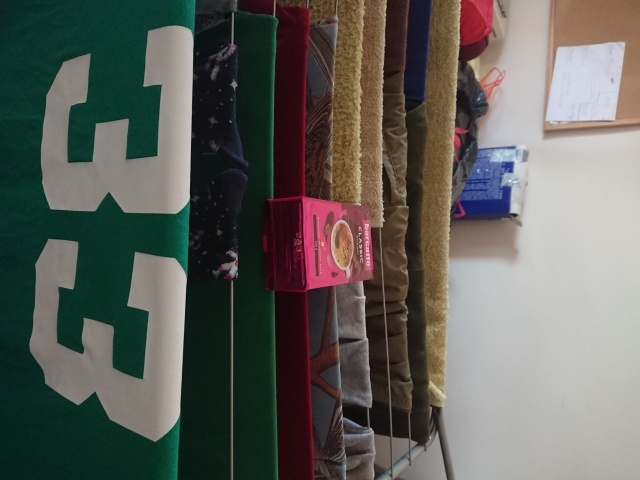Barcaffe Classic Original 225g: (258, 195, 376, 295)
